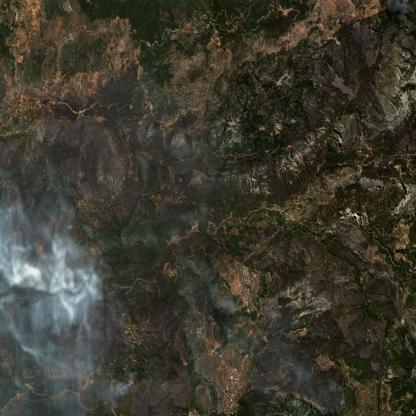fire: (0, 248, 44, 314), (112, 364, 143, 404), (216, 292, 241, 328)
